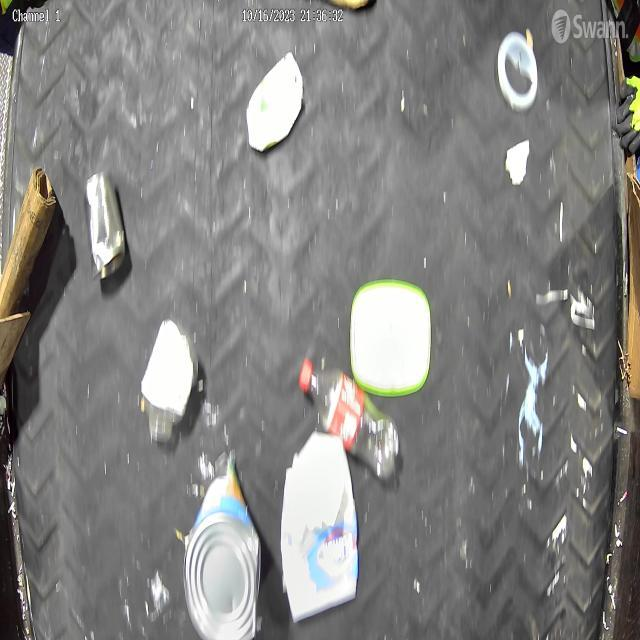can: (182, 450, 262, 640), (84, 169, 128, 282)
plastic_bottle: (298, 357, 401, 482)
